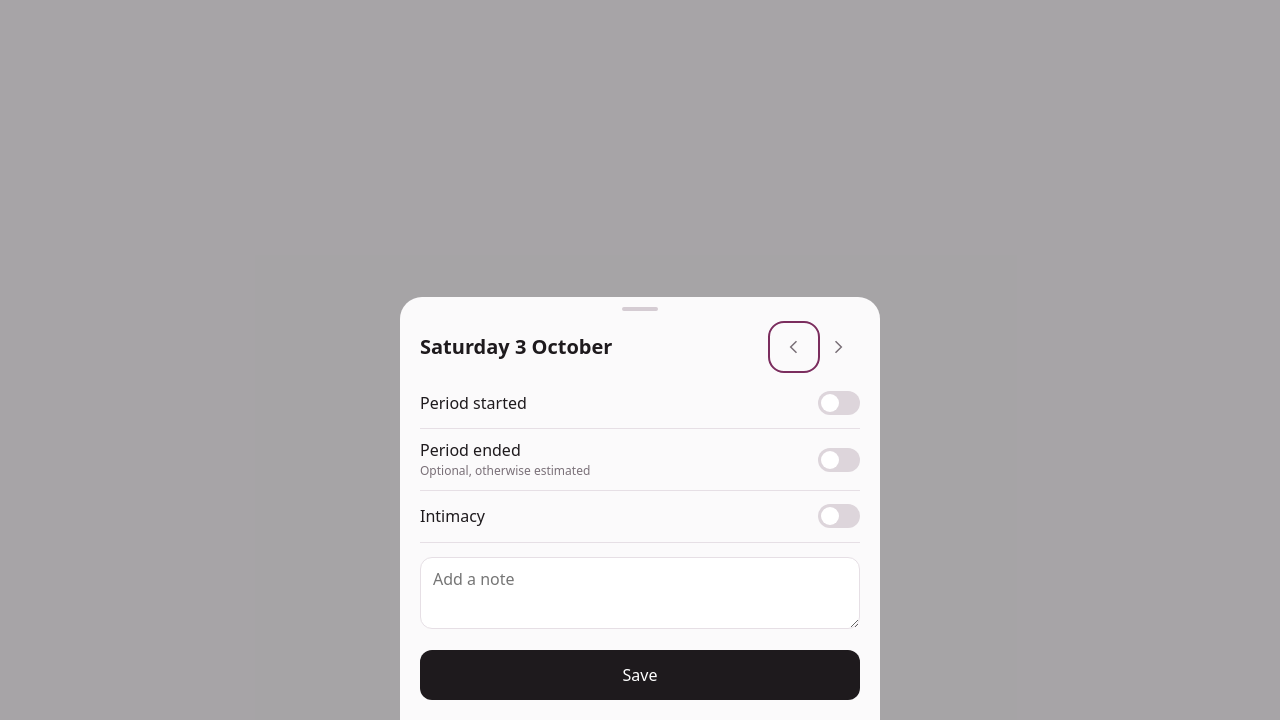
Test: LogSheet › treats the Android back button like closing, keeping the discard prompt
The image size is (1280, 720).
Click the switch labelled "Intimacy" at (452, 516), box top-left (420, 491), bottom-right (860, 543)
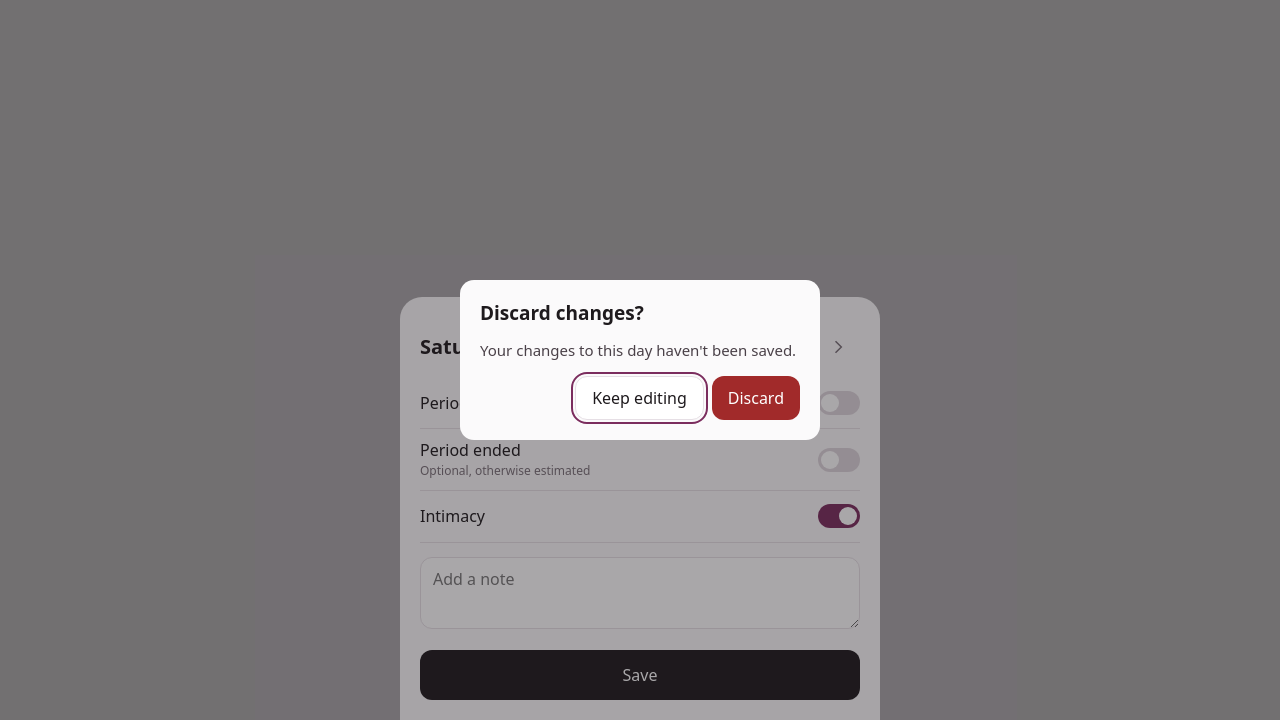
Now the heading "Discard changes?" is shown, box top-left (480, 300), bottom-right (644, 326)
